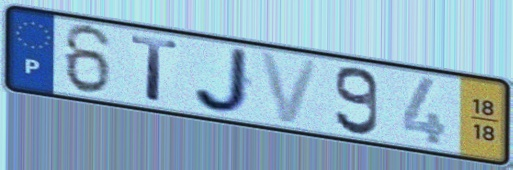4: (399, 74, 449, 149)
6: (62, 23, 115, 97)
9: (332, 65, 381, 136)
J: (191, 45, 255, 116)
T: (128, 33, 183, 105)
V: (256, 49, 324, 127)
